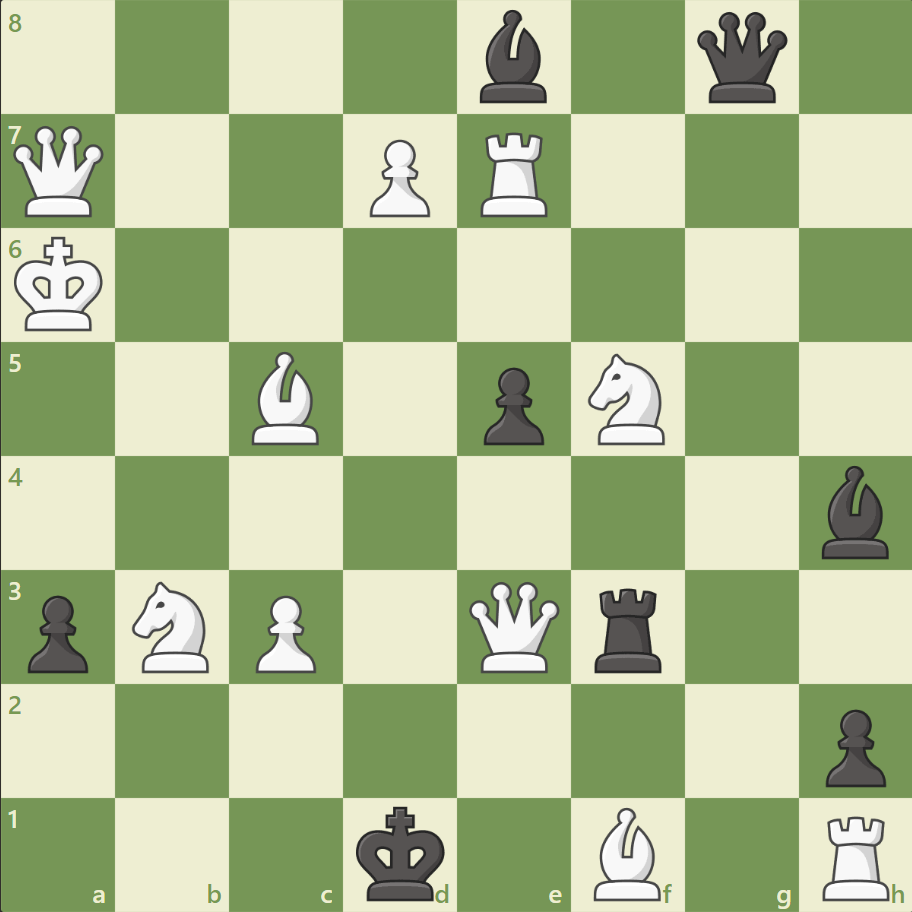B: (585, 801, 669, 904), (244, 347, 328, 449)
K: (11, 231, 111, 339)
N: (124, 575, 222, 677), (579, 348, 676, 450)
P: (247, 586, 322, 677), (361, 132, 435, 223)
Q: (10, 122, 109, 222), (464, 576, 563, 676)
R: (814, 806, 897, 904), (473, 125, 556, 222)
b: (471, 6, 555, 109), (812, 460, 896, 563)
k: (351, 798, 451, 906)
p: (474, 359, 549, 450), (20, 586, 95, 677), (815, 700, 889, 791)
q: (691, 9, 790, 108)
r: (587, 579, 670, 676)
